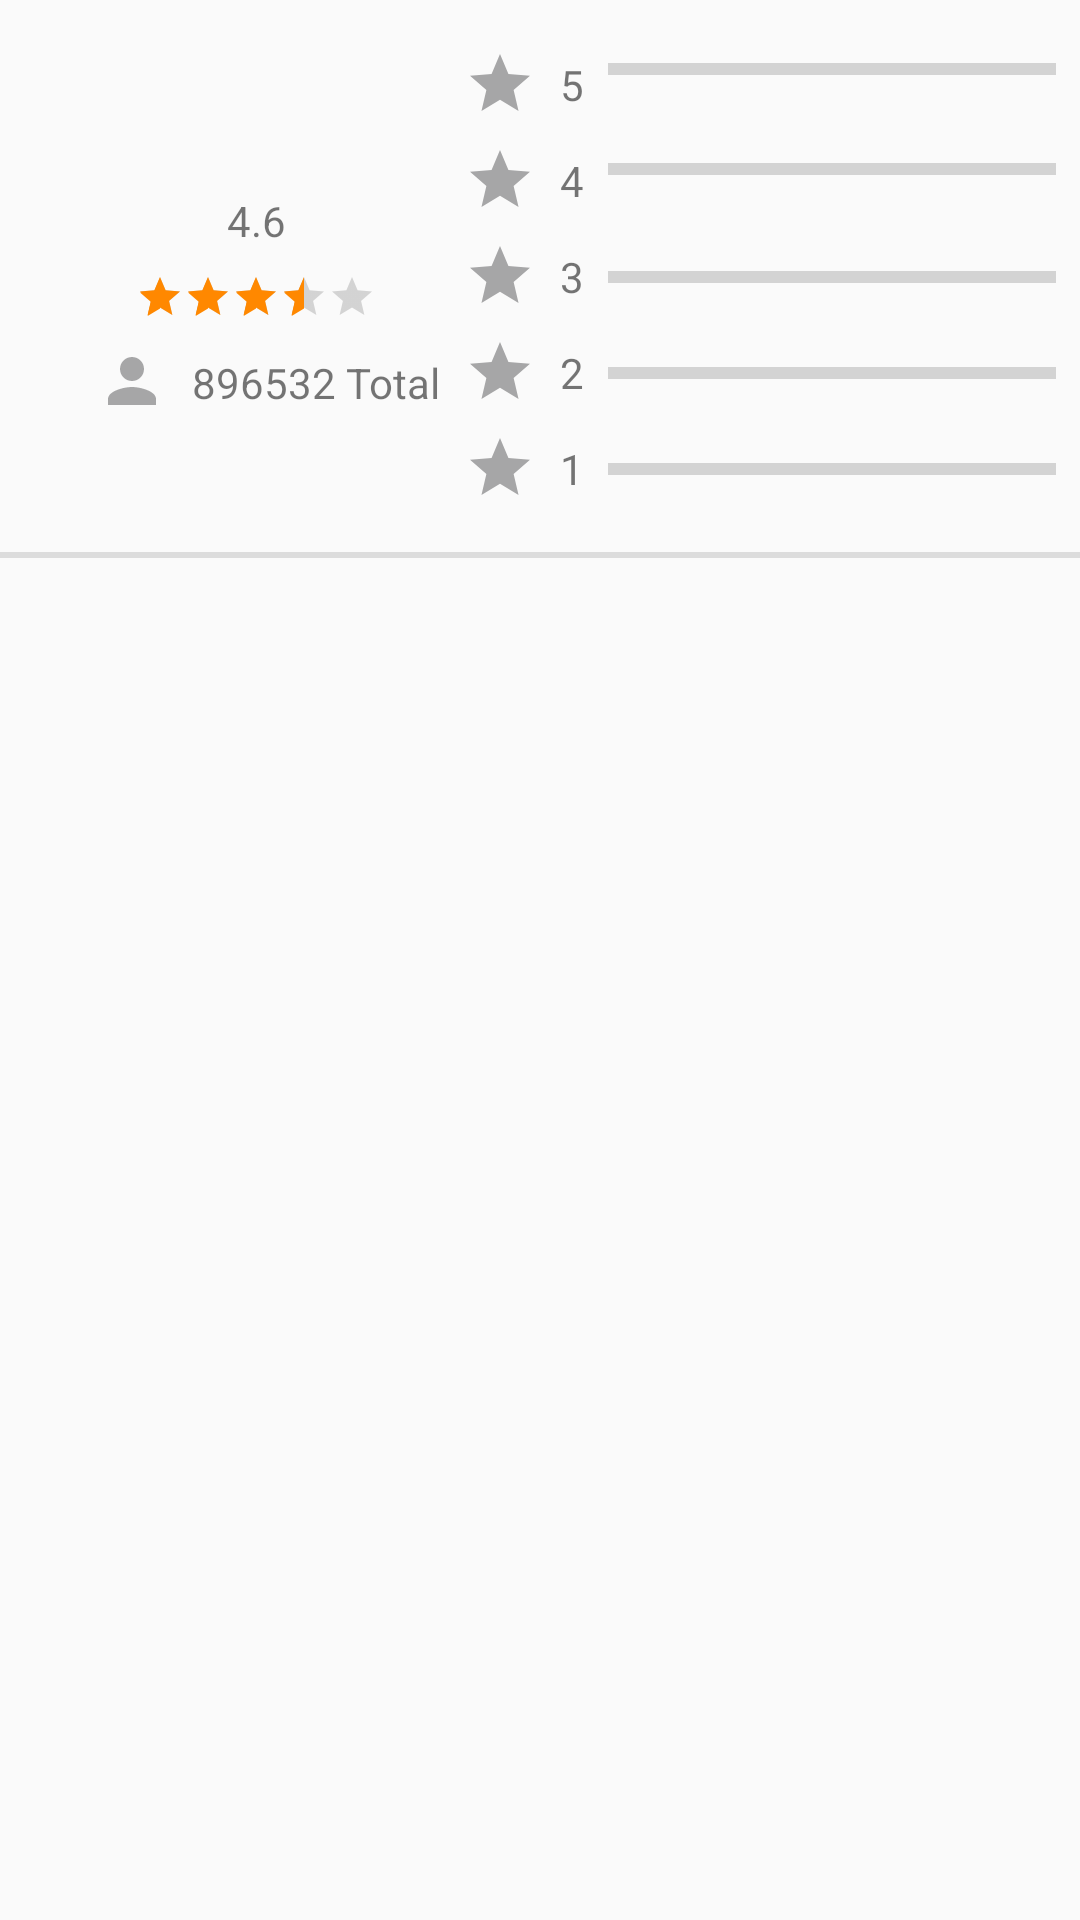

Screen size 1080*1920. Icon name, then its center in pixels as point (x, y):
person: point (132, 381)
star: point (500, 83), point (500, 179), point (500, 275), point (500, 371), point (500, 467)
